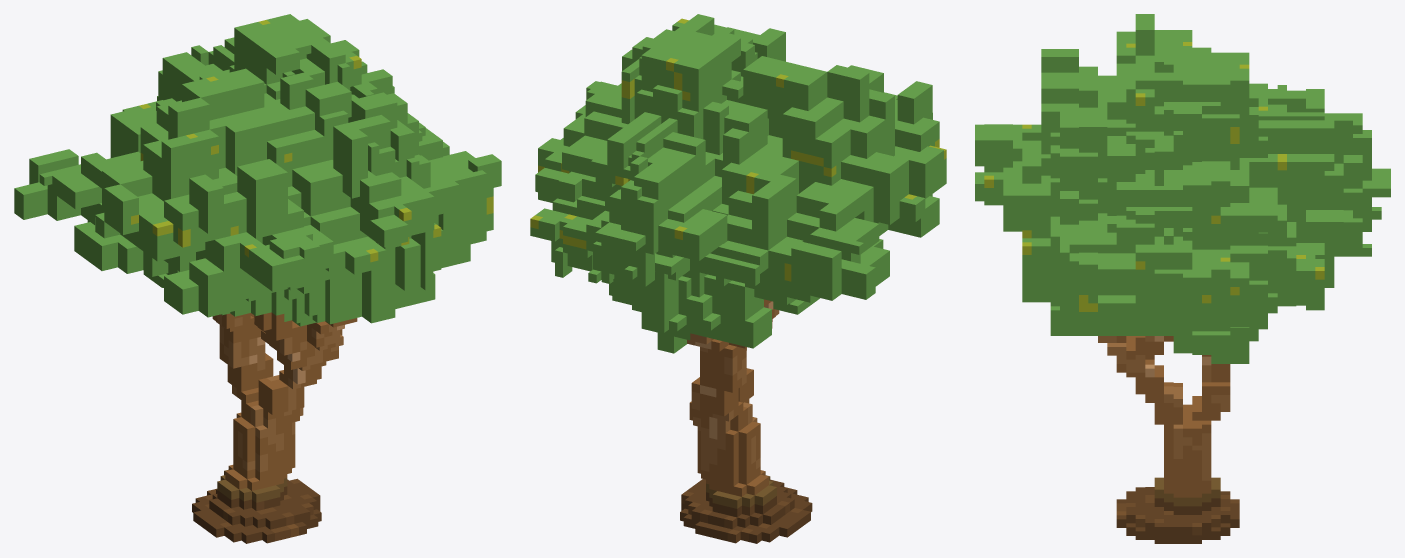
File: 1_3 pit.obj
The picture shows the model from 3 angles, left to right: view 1: azimuth 30°, elevation 25°; view 2: azimuth 150°, elevation 25°; view 3: azimuth 270°, elevation 25°; orthographic projection. The views are drawn at different scales.
Size of the model in its own units: 4.7 by 5.5 by 4.4.
Materials: 1 (1 with a texture image).
